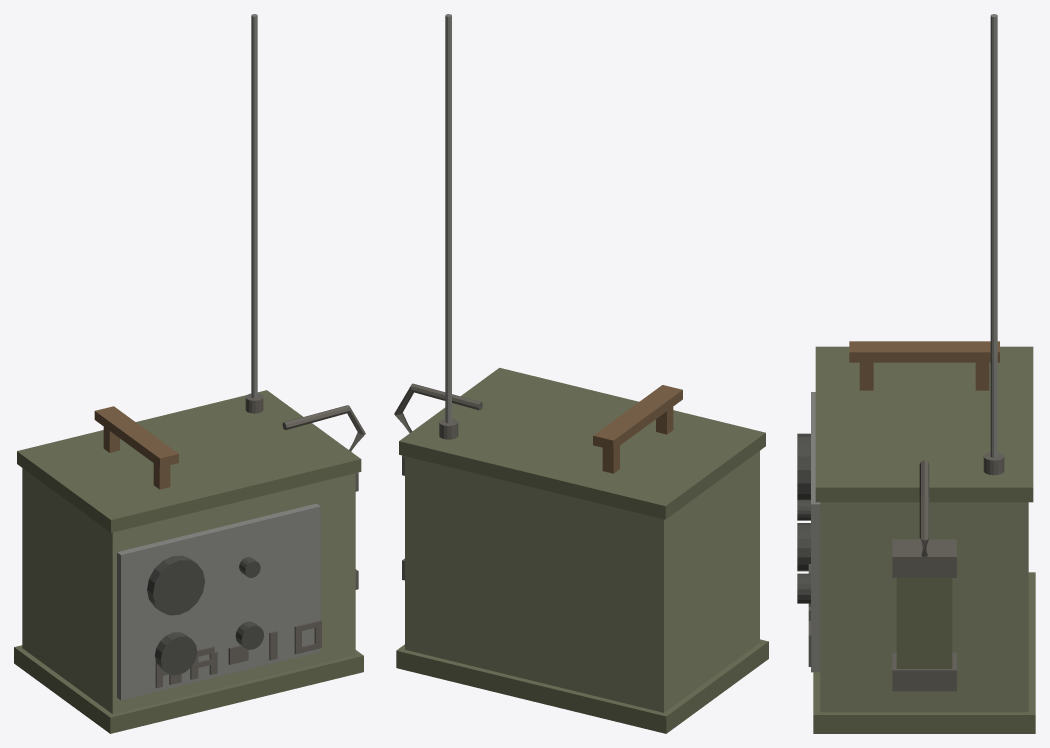
The model's file is field_radio.glb.
3 renders of one model, left to right at view 1: azimuth 30°, elevation 25°; view 2: azimuth 150°, elevation 25°; view 3: azimuth 270°, elevation 25°, orthographic. The views are drawn at different scales.
Visible parts, largest first — view 1: RadioBody, RadioTop, RadioFace, RadioBase, RadioAntenna, RadioDialBig, RadioStrapBar, RadioDialMid, RadioCord, RadioKnobLo; view 2: RadioBody, RadioTop, RadioBase, RadioAntenna, RadioStrapBar, RadioCord; view 3: RadioBody, RadioTop, RadioBase, RadioHandset, RadioAntenna, RadioStrapBar, RadioHandsetCup_1, RadioFace, RadioHandsetCup_0, RadioCord, RadioDialBig, RadioDialMid (+4 smaller).
Part boxes in pixels (bbox=[...]): RadioBody: bbox=[22, 468, 355, 713]; RadioTop: bbox=[17, 390, 361, 532]; RadioFace: bbox=[117, 503, 320, 700]; RadioBase: bbox=[14, 645, 363, 733]; RadioAntenna: bbox=[251, 14, 257, 398]; RadioDialBig: bbox=[147, 555, 204, 615]; RadioStrapBar: bbox=[94, 406, 178, 467]; RadioDialMid: bbox=[155, 632, 197, 675]; RadioCord: bbox=[282, 405, 365, 451]; RadioKnobLo: bbox=[235, 621, 263, 649]; RadioBody: bbox=[405, 451, 759, 712]; RadioTop: bbox=[399, 367, 765, 519]; RadioBase: bbox=[396, 639, 768, 733]; RadioAntenna: bbox=[445, 14, 451, 423]; RadioStrapBar: bbox=[593, 385, 682, 450]; RadioCord: bbox=[394, 383, 482, 433]; RadioBody: bbox=[820, 502, 1028, 712]; RadioTop: bbox=[815, 346, 1033, 502]; RadioBase: bbox=[813, 572, 1035, 733]; RadioHandset: bbox=[896, 578, 952, 668]; RadioAntenna: bbox=[990, 14, 997, 457]; RadioStrapBar: bbox=[849, 341, 999, 362]; RadioHandsetCup_1: bbox=[892, 539, 956, 577]; RadioFace: bbox=[811, 392, 820, 672]; RadioHandsetCup_0: bbox=[892, 652, 956, 691]; RadioCord: bbox=[919, 460, 929, 557]; RadioDialBig: bbox=[797, 433, 810, 499]; RadioDialMid: bbox=[797, 523, 810, 571].
Size of the model in its own units: 0.3491 by 0.668 by 0.206.
